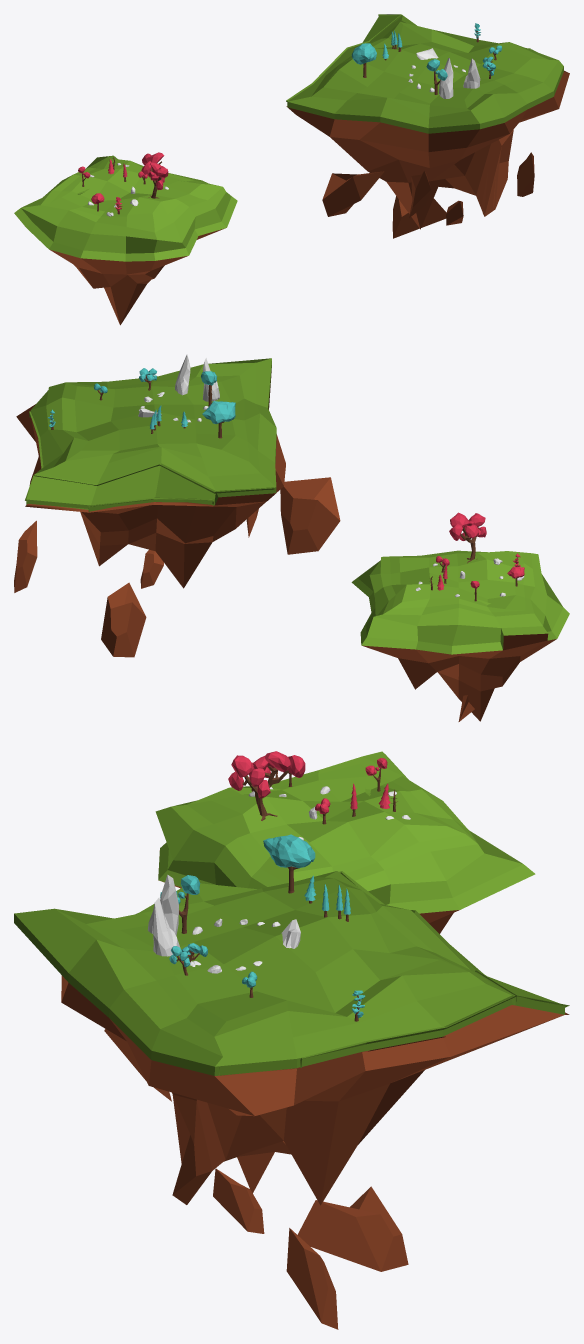
File: Islands.glb
3 renders of one model, top to bottom at view 1: azimuth 30°, elevation 25°; view 2: azimuth 150°, elevation 25°; view 3: azimuth 270°, elevation 25°, orthographic. The views are drawn at different scales.
Visible parts, largest first — view 1: L1, L2.001, t1-purple, t3-cyan, r10; view 2: L1, L2.001, t1-purple, t3-cyan; view 3: L1, L2.001, t1-purple, t3-cyan, r10.001, r10.
Boxes of the visible parts, left/top/right/bottom form: L1: left=286, top=14, right=569, bottom=238; L2.001: left=14, top=155, right=237, bottom=325; t1-purple: left=141, top=152, right=168, bottom=198; t3-cyan: left=351, top=43, right=376, bottom=77; r10: left=439, top=58, right=453, bottom=98; L1: left=14, top=358, right=340, bottom=657; L2.001: left=351, top=550, right=569, bottom=721; t1-purple: left=449, top=512, right=486, bottom=563; t3-cyan: left=202, top=401, right=235, bottom=438; L1: left=14, top=871, right=569, bottom=1329; L2.001: left=155, top=751, right=535, bottom=933; t1-purple: left=228, top=751, right=305, bottom=820; t3-cyan: left=263, top=834, right=315, bottom=893; r10.001: left=152, top=897, right=180, bottom=956; r10: left=148, top=874, right=178, bottom=935.
Bounding box in the file's own units: 290 × 122 × 158.
